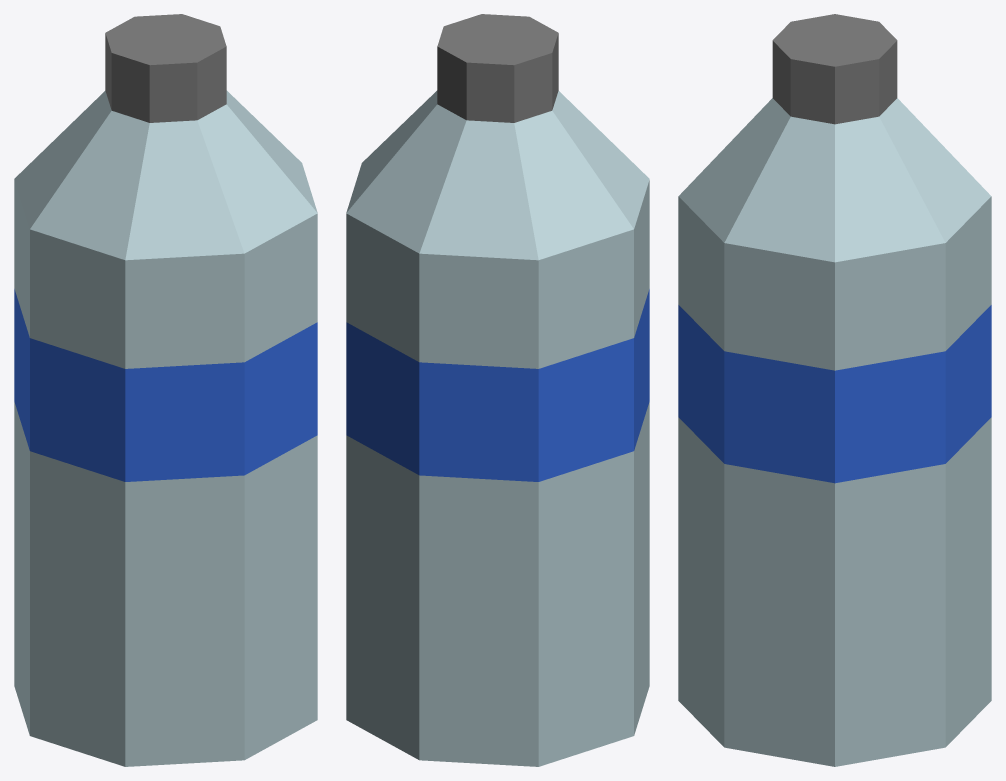
Rendered from water-bottle.fbx.
The picture shows the model from 3 angles, left to right: view 1: azimuth 30°, elevation 25°; view 2: azimuth 150°, elevation 25°; view 3: azimuth 270°, elevation 25°; orthographic projection.
Parts seen in each view (by area): view 1: Cylinder; view 2: Cylinder; view 3: Cylinder.
Part boxes in pixels (x1,y1,x2,y2): Cylinder: [14, 14, 317, 766]; Cylinder: [346, 14, 649, 766]; Cylinder: [678, 14, 991, 766].
Size of the model in its own units: 200 by 466 by 200.
